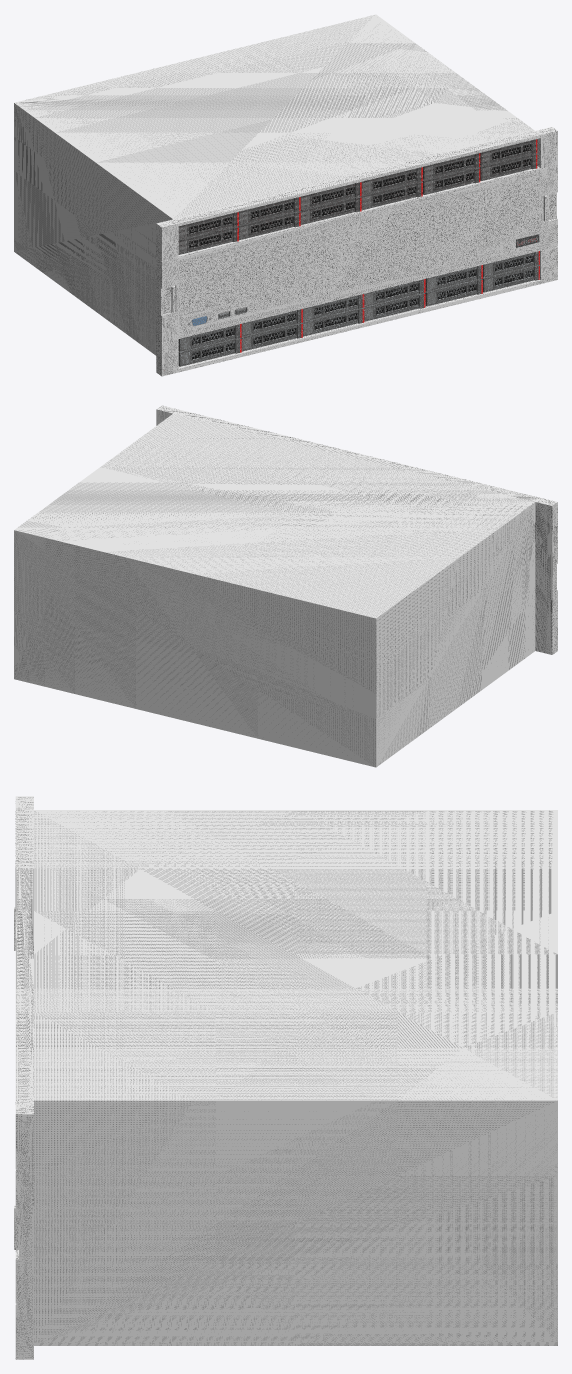
Rendered from Lenovo ThinkSystem SR950 mission-critical 4U.gltf.
3 renders of one model, top to bottom at view 1: azimuth 30°, elevation 25°; view 2: azimuth 150°, elevation 25°; view 3: azimuth 270°, elevation 25°, orthographic. The views are drawn at different scales.
Visible parts, largest first — view 1: ID2806, ID2720, Component_2 (×12), Component_3 (×11); view 2: ID2806, ID2720; view 3: ID2806, ID2720.
Boxes of the visible parts, x1,y1,x2,y2 form: ID2806: [14, 14, 534, 355]; ID2720: [156, 127, 557, 376]; Component_2 (×12): [178, 153, 539, 366]; Component_3 (×11): [178, 139, 536, 351]; ID2806: [14, 409, 535, 767]; ID2720: [156, 405, 557, 654]; ID2806: [34, 810, 557, 1345]; ID2720: [15, 796, 33, 1359].
Size of the model in its own units: 13.28 by 4.77 by 9.6.
Materials: 285 (82 with a texture image).
